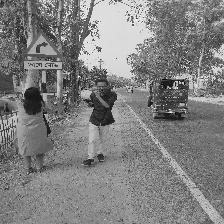Right-turn: (21, 32, 63, 70)
